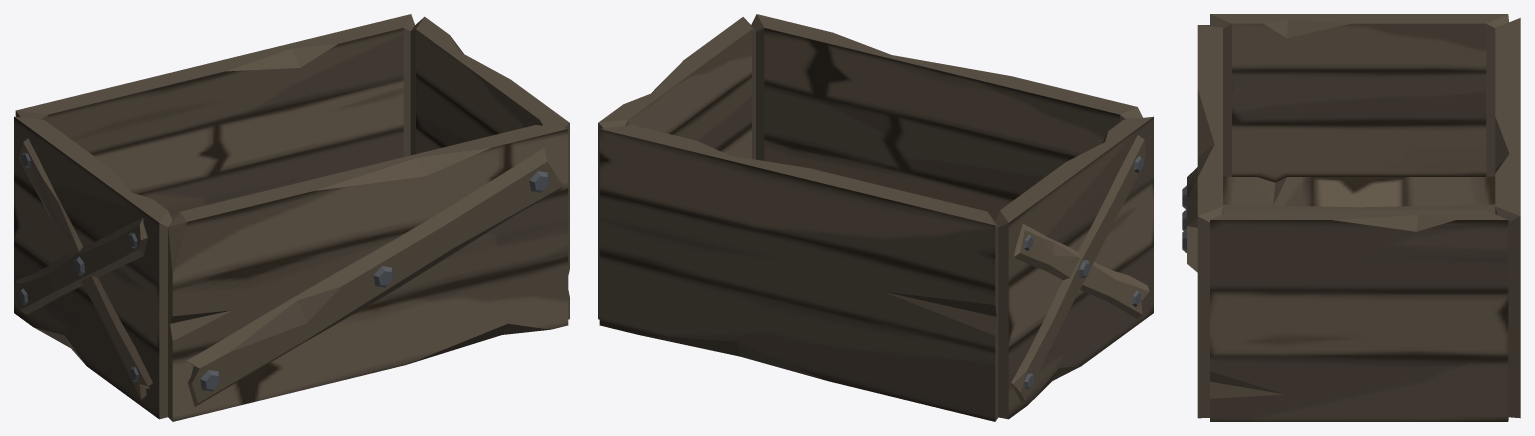
The model's file is SM_Prop_Crate_06.fbx.
The picture shows the model from 3 angles, left to right: view 1: azimuth 30°, elevation 25°; view 2: azimuth 150°, elevation 25°; view 3: azimuth 270°, elevation 25°; orthographic projection. The views are drawn at different scales.
Parts seen in each view (by area): view 1: SM_Prop_Crate_06; view 2: SM_Prop_Crate_06; view 3: SM_Prop_Crate_06.
Boxes of the visible parts, x1,y1,x2,y2 form: SM_Prop_Crate_06: [14, 14, 569, 421]; SM_Prop_Crate_06: [598, 14, 1153, 421]; SM_Prop_Crate_06: [1182, 14, 1520, 421].
Bounding box in the file's own units: 89.71 × 40.28 × 61.14.
